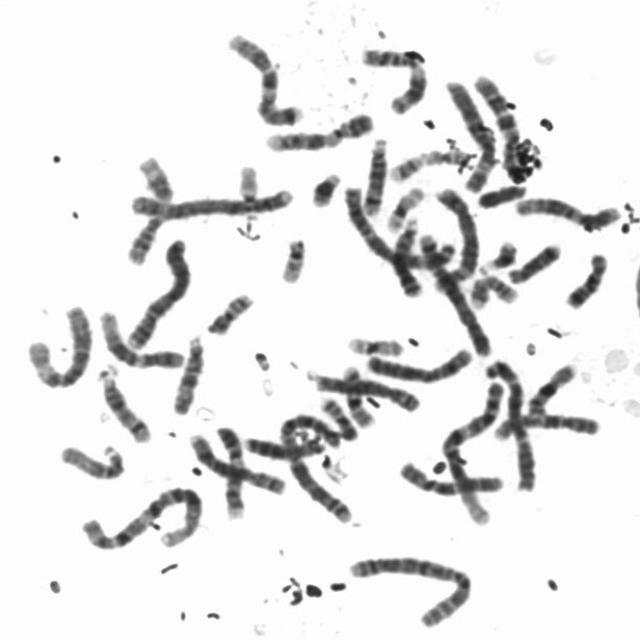A1: (436, 374, 509, 530), (75, 480, 207, 552)
A2: (342, 548, 477, 630), (276, 407, 356, 526)
A3: (337, 181, 457, 269), (480, 353, 539, 494)
B4: (121, 232, 196, 352), (124, 182, 298, 219)
B5: (410, 227, 494, 359), (427, 182, 482, 293)
C10: (393, 455, 509, 500), (486, 406, 605, 443)
C11: (120, 151, 178, 267), (355, 41, 430, 116)
C12: (94, 304, 188, 372), (511, 190, 624, 233)
C6: (440, 73, 501, 195), (20, 298, 94, 391)
C7: (222, 27, 308, 129), (469, 69, 533, 179)
C8: (185, 426, 291, 497), (304, 367, 425, 414)
C9: (261, 107, 378, 154), (211, 420, 248, 520)
D13: (386, 212, 426, 297), (240, 431, 324, 461)
D14: (91, 362, 154, 444), (355, 132, 390, 217)
D15: (167, 329, 208, 417), (55, 439, 129, 482)
E16: (522, 357, 580, 418), (337, 360, 378, 430)
E17: (384, 144, 478, 184), (464, 269, 520, 311)
E18: (560, 247, 611, 311), (504, 238, 565, 285)
F19: (381, 180, 428, 233), (341, 330, 407, 358)
F20: (202, 287, 256, 337), (315, 392, 360, 442)
G21: (474, 236, 519, 275), (305, 166, 344, 210)
G22: (273, 232, 310, 286), (233, 159, 264, 208)
X: (359, 342, 475, 385)
Y: (472, 179, 530, 210)
